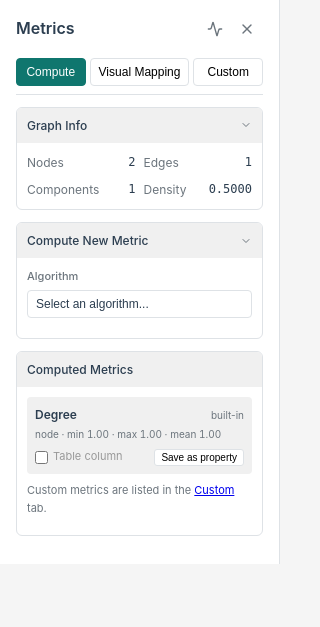
Test: MetricsPanel — Custom tab › renders running / done / error statuses from the run state
This screenshot has width=320, height=627.
Step 1. Click the button with test id "metrics-tab-custom" → (228, 72), box [193,58,263,86]
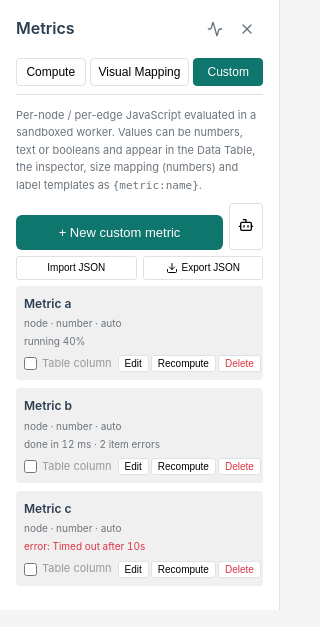
Check: the text with test id "custom-metric-status-a" reads "running 40%", box [24,335,85,347]
Check: the text with test id "custom-metric-status-b" reads "done in 12 ms · 2 item errors", box [24,438,160,450]
Check: the text with test id "custom-metric-status-c" reads "error: Timed out after 10s", box [24,540,145,552]
